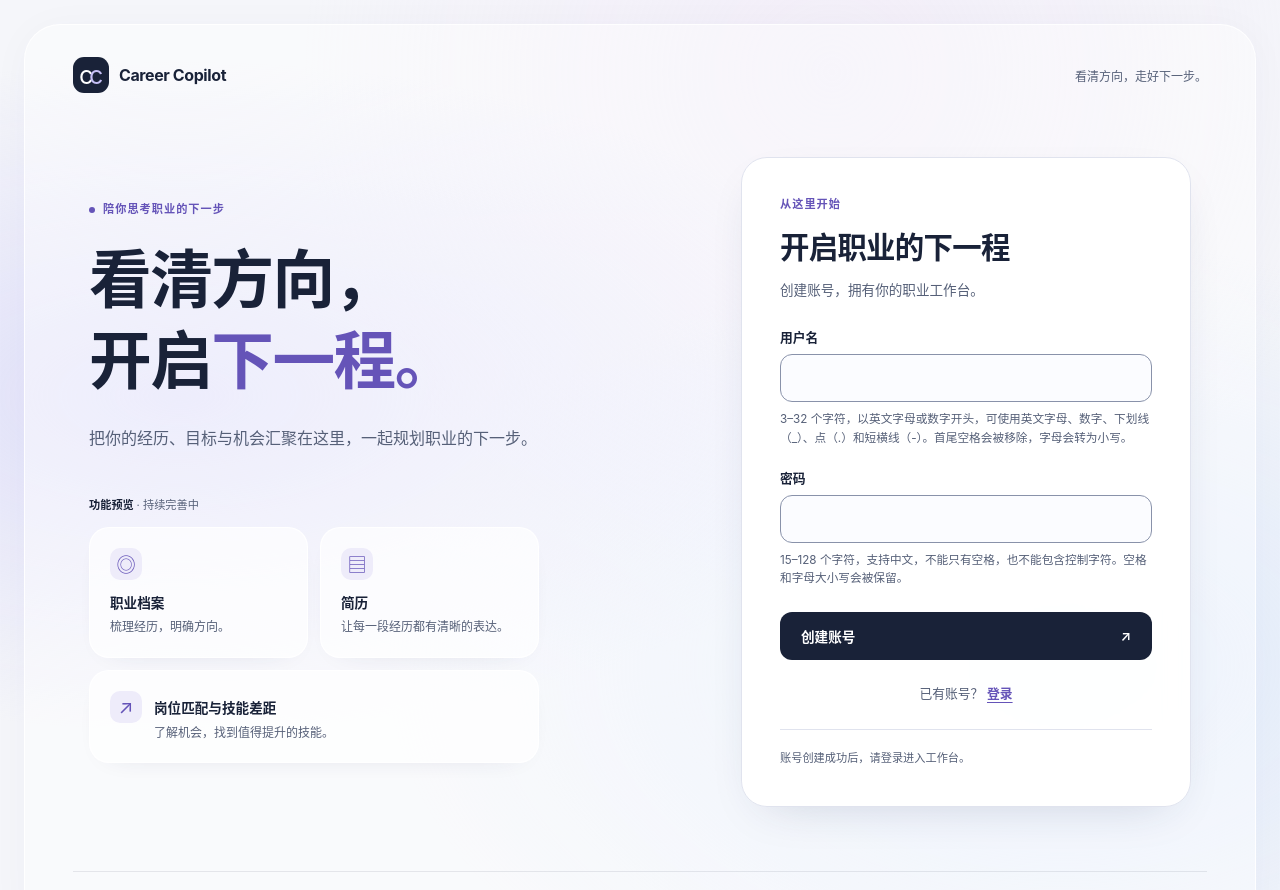
registration network failure is retryable
Type "alice" into the field labelled "用户名" at (966, 378), box [780,354,1152,402]
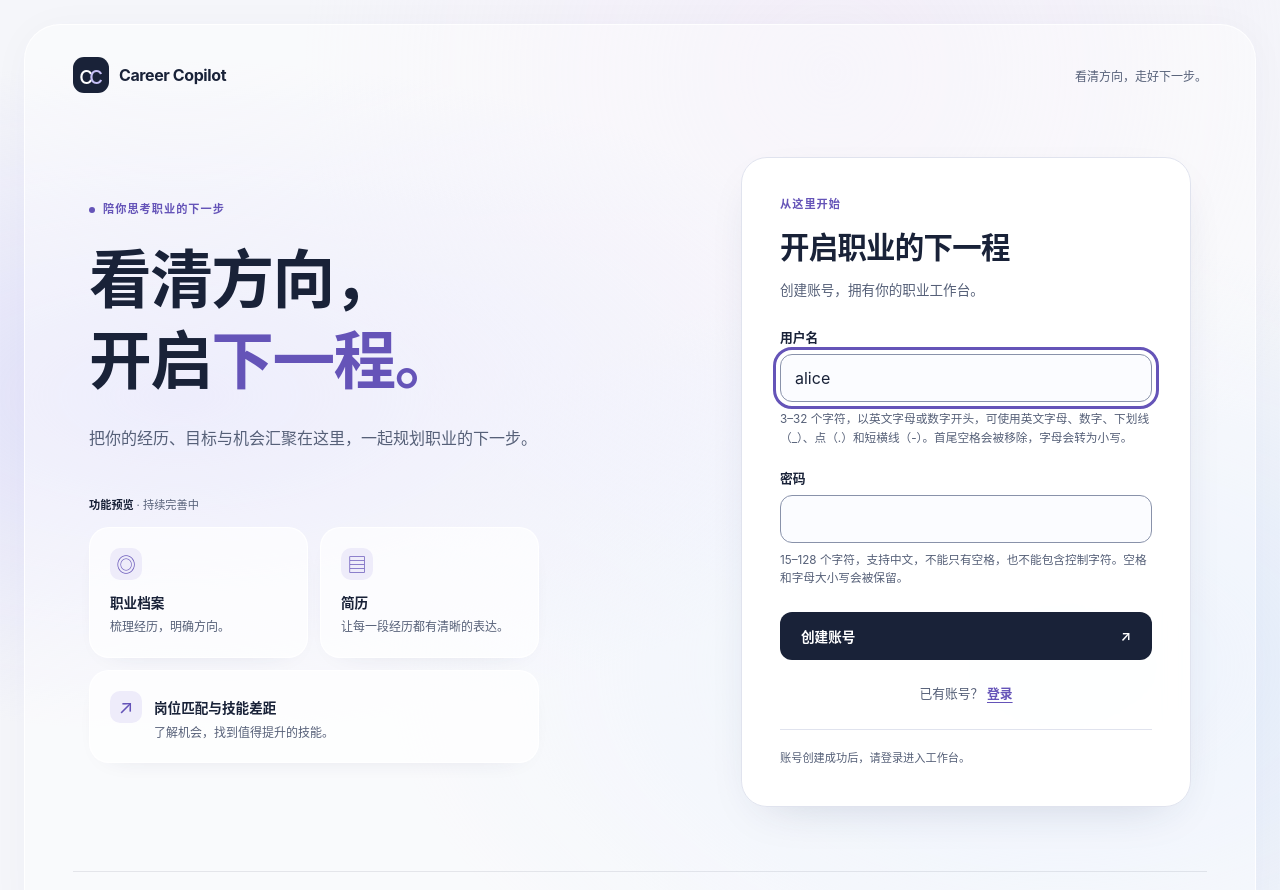
Type "  A long private passphrase  " into the password field labelled "密码" at (966, 519), box [780,495,1152,543]
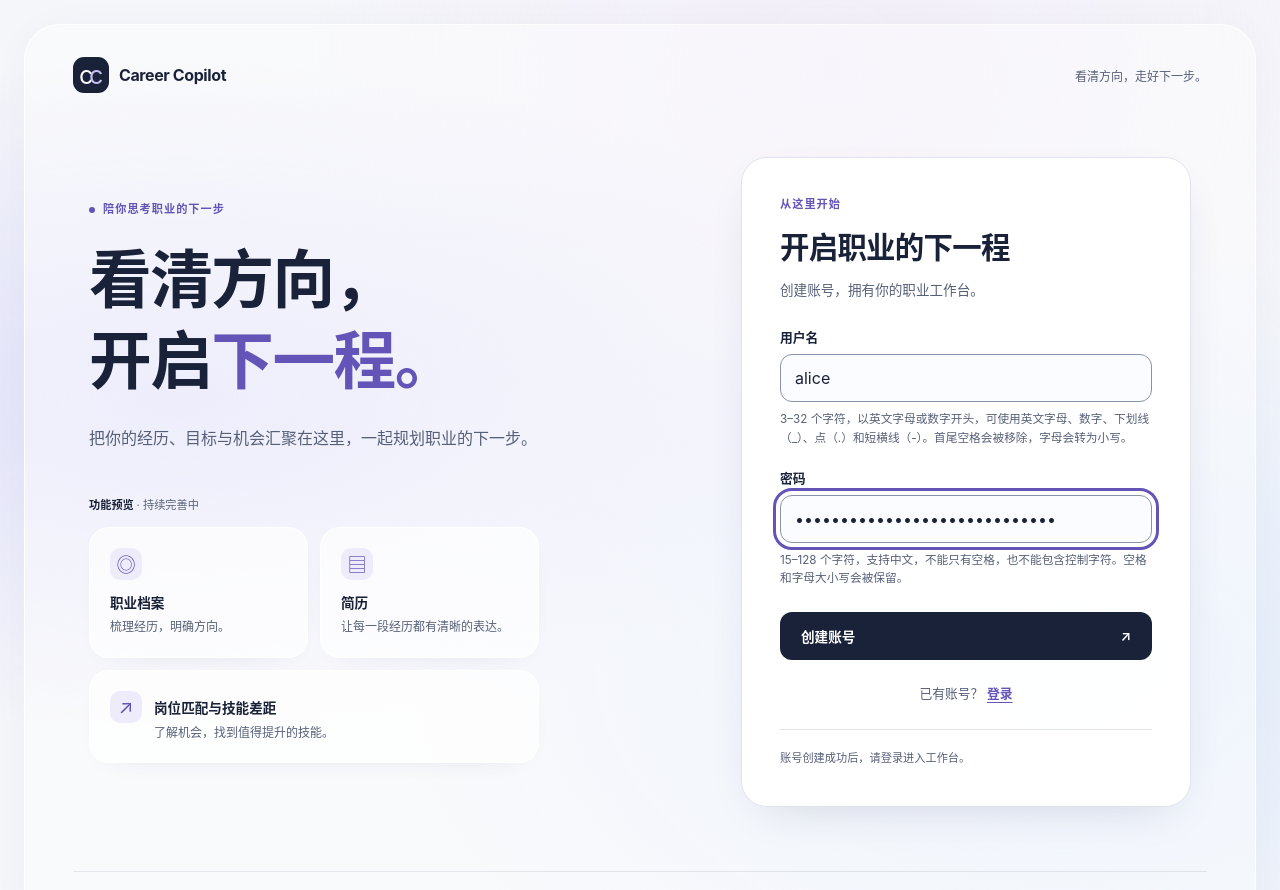
Click the button "创建账号 ↗" at (828, 637), box [780,612,1152,660]
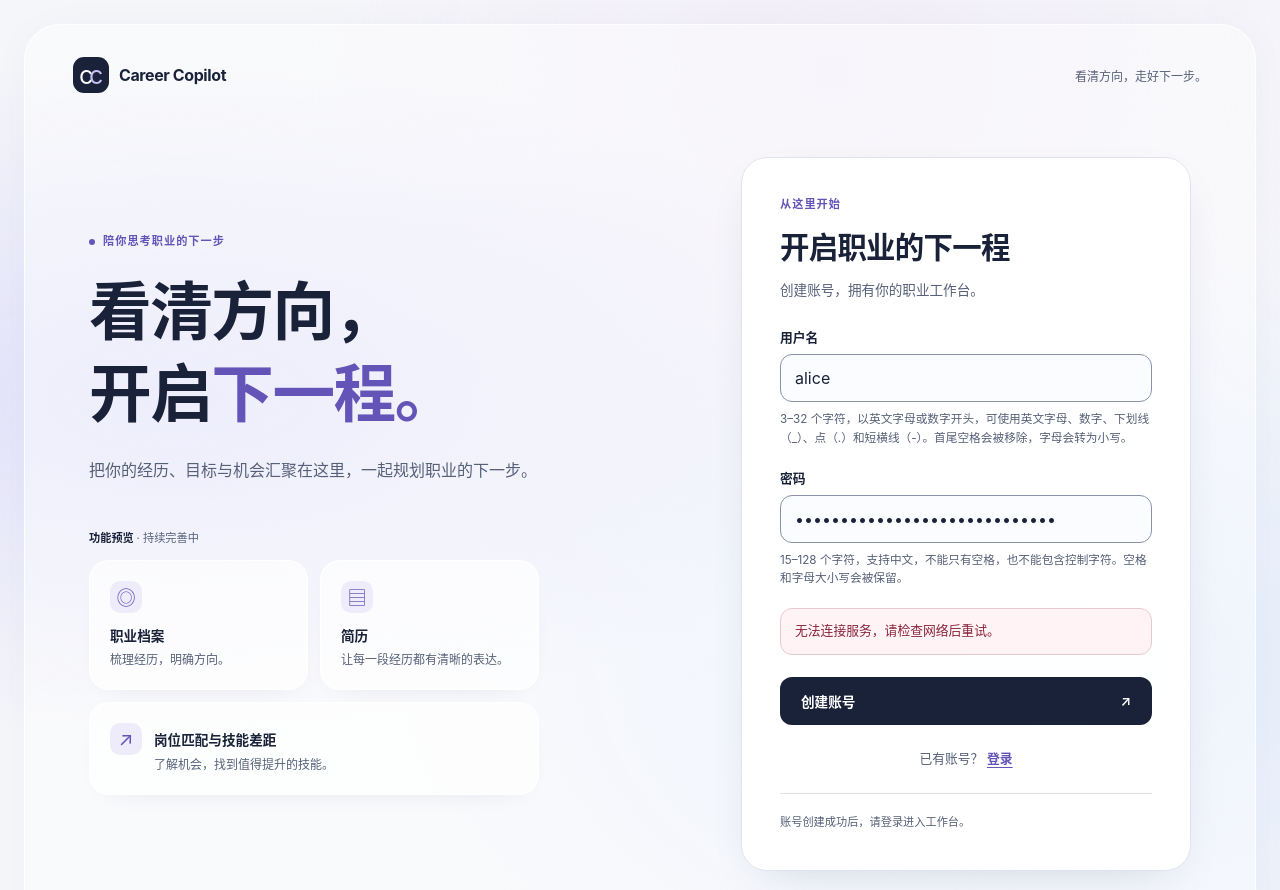
Expected: the button "创建账号 ↗" is enabled, [780,677,1152,725]
Expected: the text "无法连接服务，请检查网络后重试。" is shown, [780,608,1152,655]
